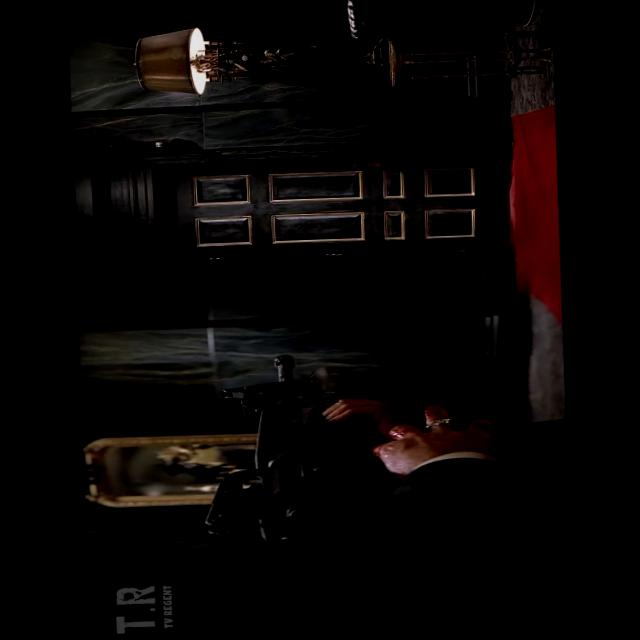long weapon: (153, 313, 481, 576)
